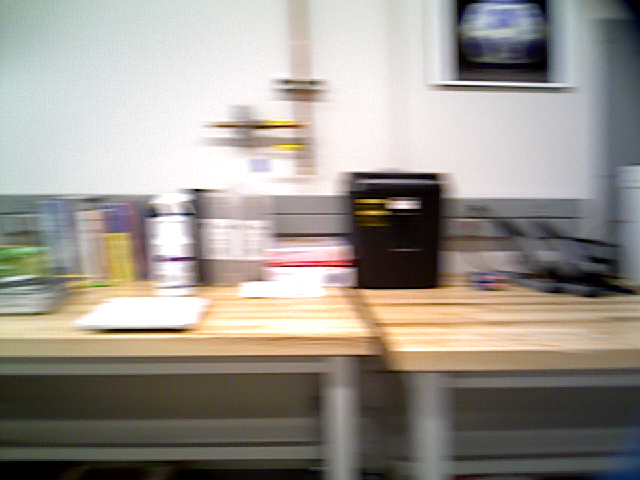painting2: (425, 1, 576, 96)
